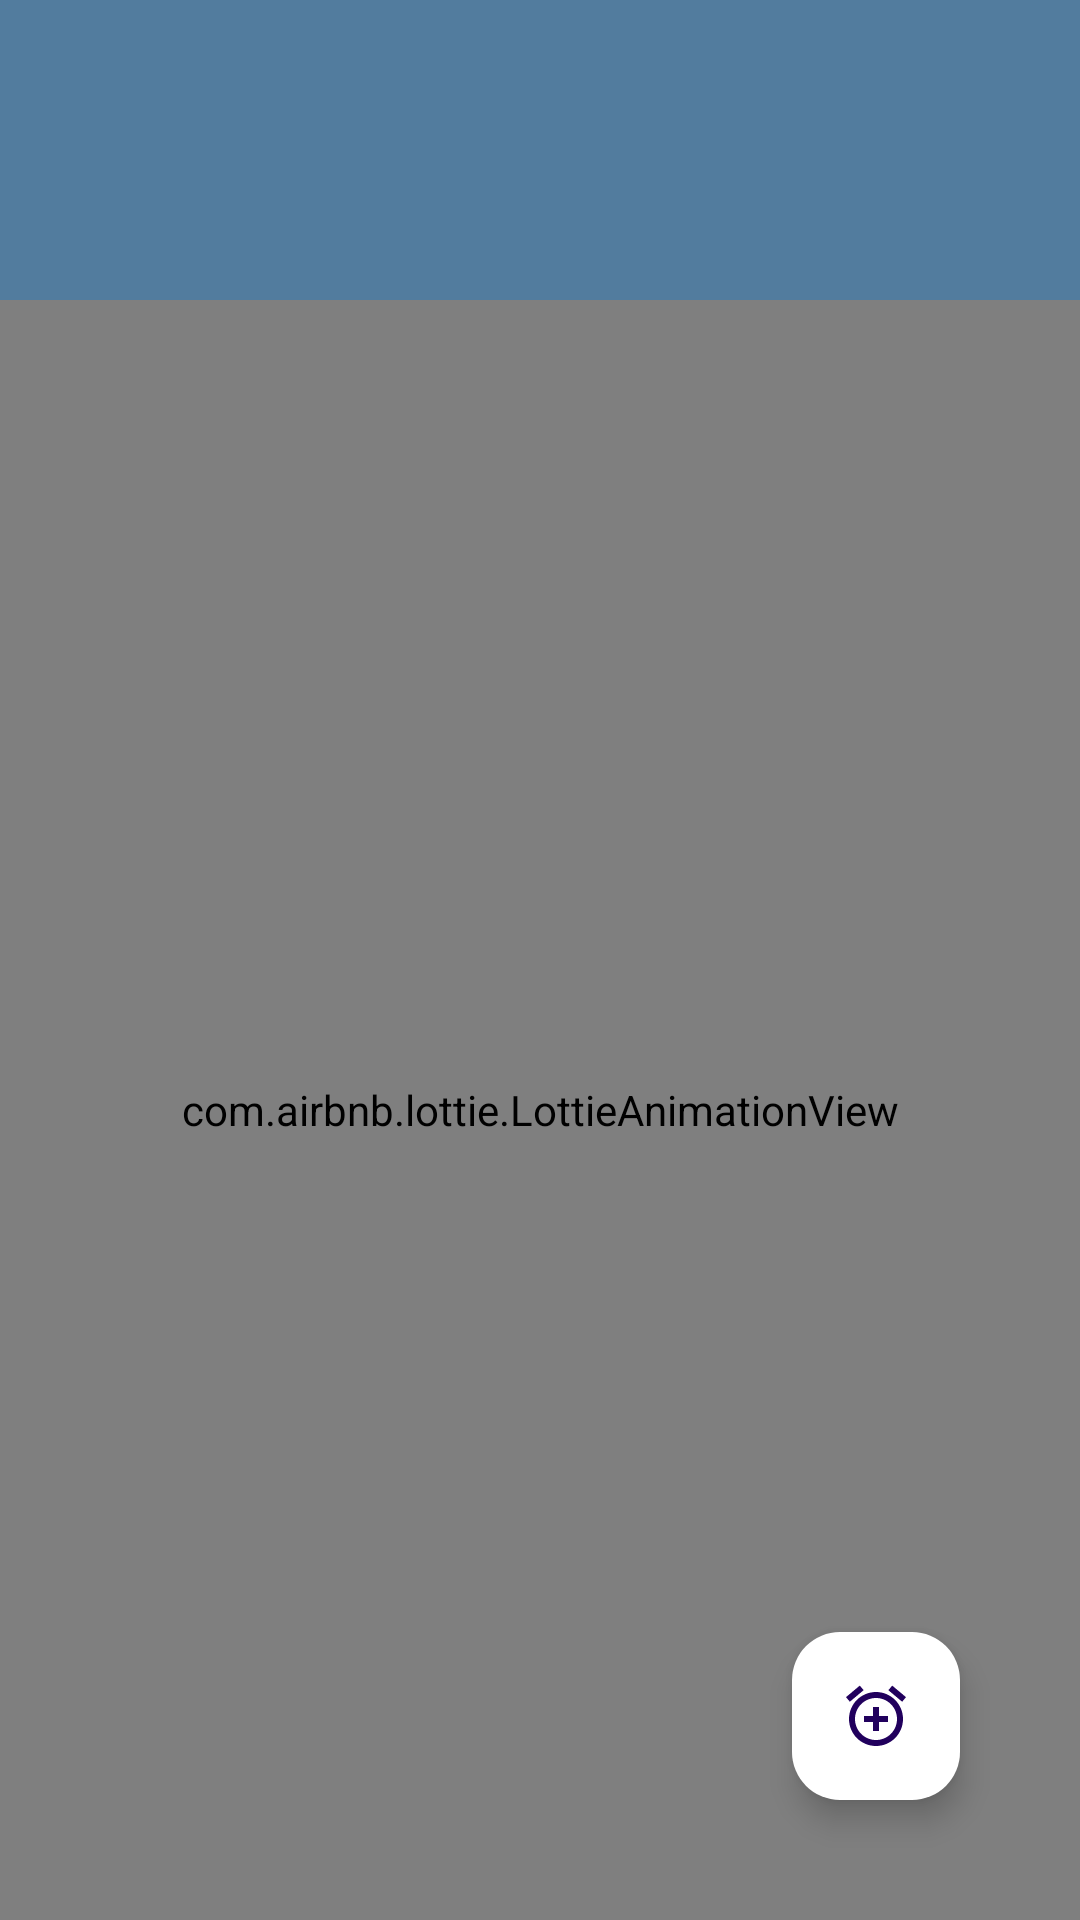

Point at icon controls on the screen. Image size 1080 × 1920, points as (x,y).
add allarm: (876,1716)
